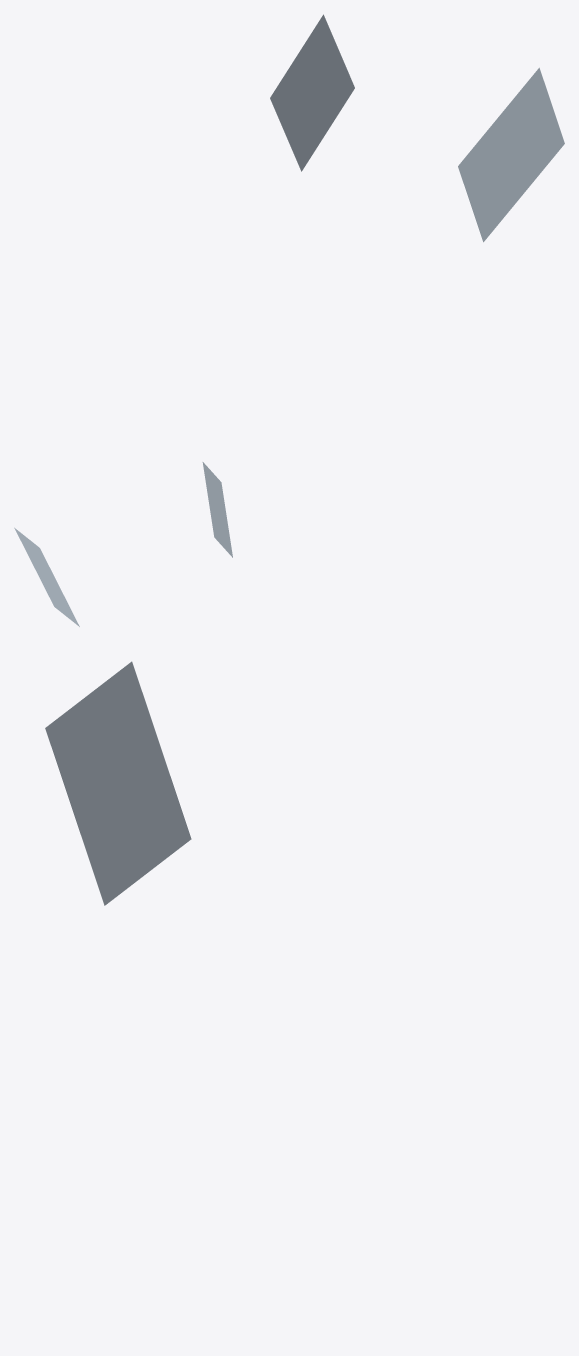
The model's file is cuneometatarsal-interosseous-ligaments-l.glb.
3 views of the same model, one above another, from view 1: azimuth 30°, elevation 25°; view 2: azimuth 150°, elevation 25°; view 3: azimuth 270°, elevation 25° (orthographic). The views are drawn at different scales.
Parts seen in each view (by area): view 1: Cuneometatarsal interosseous ligaments.l; view 2: Cuneometatarsal interosseous ligaments.l; view 3: Cuneometatarsal interosseous ligaments.l.
Part boxes in pixels (left/top/right/bottom): Cuneometatarsal interosseous ligaments.l: left=270, top=14, right=564, bottom=242; Cuneometatarsal interosseous ligaments.l: left=14, top=462, right=232, bottom=626; Cuneometatarsal interosseous ligaments.l: left=45, top=661, right=191, bottom=905.
Bounding box in the file's own units: 0.0248 × 0.0102 × 0.0119.
